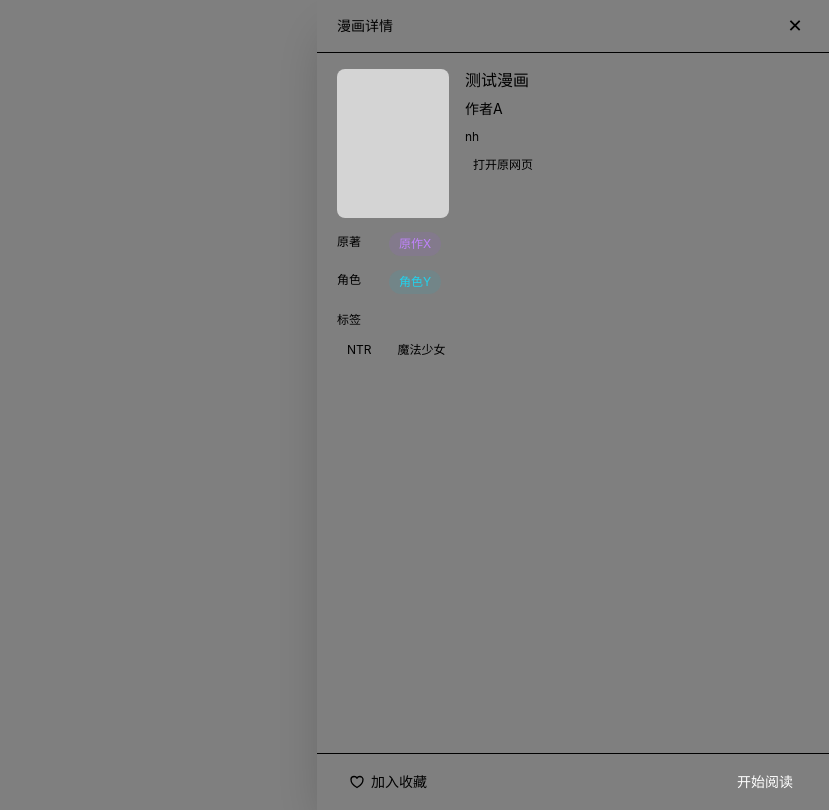
Scenario: ComicInfoDrawer - 收藏状态提交 › NH 加入收藏真实成功后才提交已收藏状态
Click the button "加入收藏".
click(388, 782)  # box [337,766,439,798]
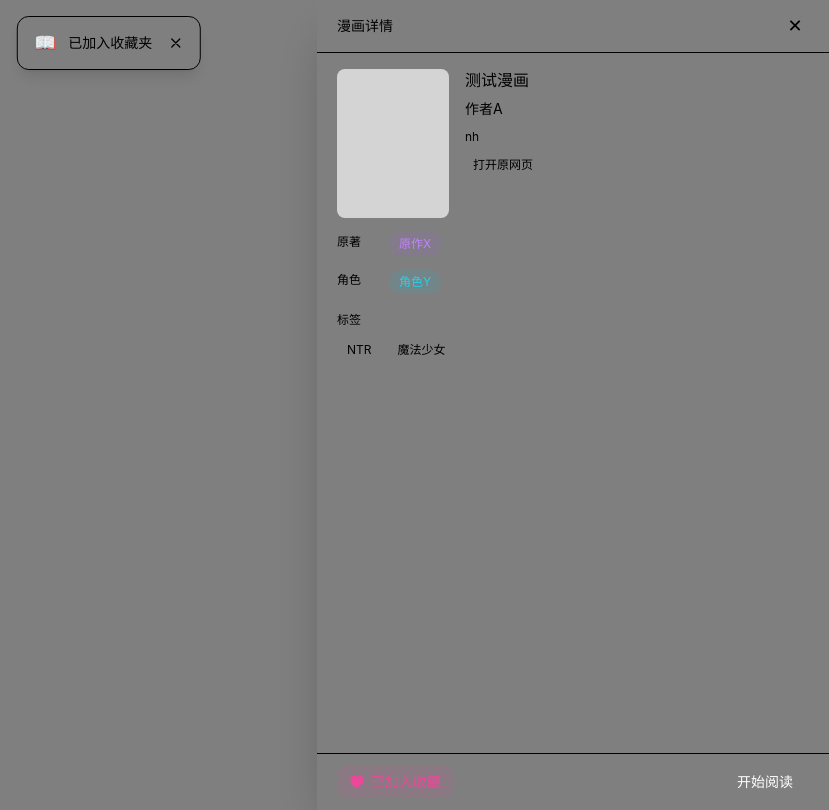
Expected: the button "已加入收藏" is enabled, [337,766,453,798]
Result: the text "已加入收藏夹" is shown at [68,33,152,53]
